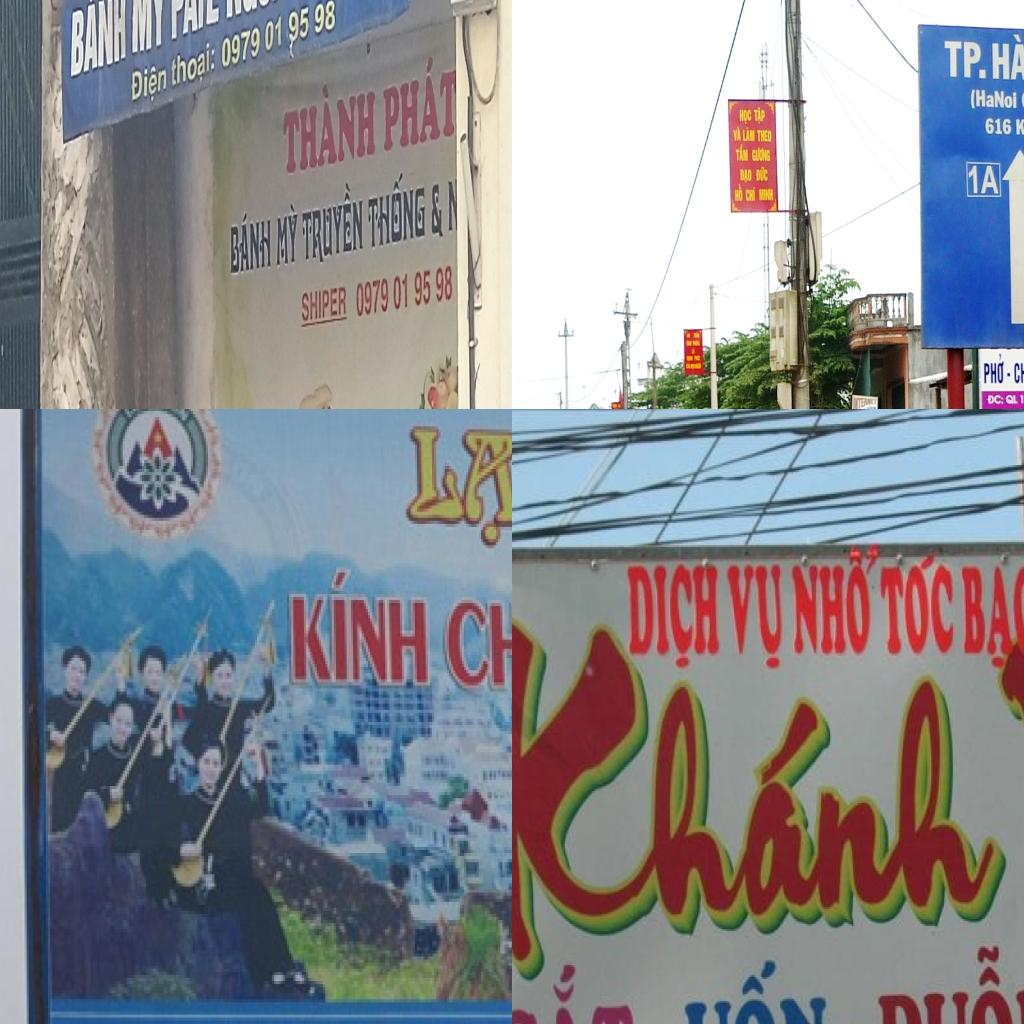text: (512, 601, 1020, 992), (289, 566, 432, 688), (680, 949, 865, 1024), (404, 423, 512, 551), (873, 939, 1024, 1024), (789, 536, 884, 660), (625, 561, 724, 675), (280, 63, 377, 179), (512, 956, 676, 1024), (877, 547, 958, 661), (219, 0, 337, 78), (380, 47, 455, 155), (443, 581, 512, 697), (959, 560, 1024, 673), (722, 561, 786, 673), (300, 164, 363, 265), (366, 153, 428, 254), (67, 0, 128, 82), (227, 196, 273, 275), (170, 32, 218, 98), (130, 51, 169, 113), (129, 0, 167, 61), (169, 0, 220, 45), (300, 280, 348, 326), (274, 191, 300, 270), (943, 38, 987, 80), (989, 32, 1024, 81), (224, 0, 289, 25), (969, 87, 1018, 111), (968, 164, 1000, 196), (983, 352, 1012, 386), (118, 409, 160, 426), (447, 170, 457, 233), (984, 116, 1013, 136), (750, 147, 772, 163), (852, 395, 877, 409), (1013, 356, 1024, 384), (735, 143, 749, 163), (754, 166, 770, 182), (758, 187, 774, 203), (756, 128, 773, 143), (738, 108, 752, 126), (742, 126, 756, 143), (986, 393, 1004, 406), (753, 106, 766, 124), (1014, 116, 1024, 137), (740, 168, 753, 184), (734, 183, 744, 203), (745, 186, 756, 202), (1004, 394, 1018, 406), (732, 126, 742, 142), (1019, 393, 1024, 405), (865, 405, 876, 409)
